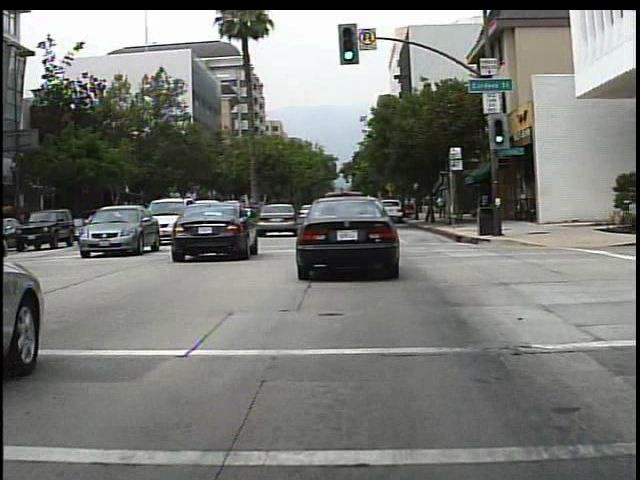person: (431, 192, 450, 226)
